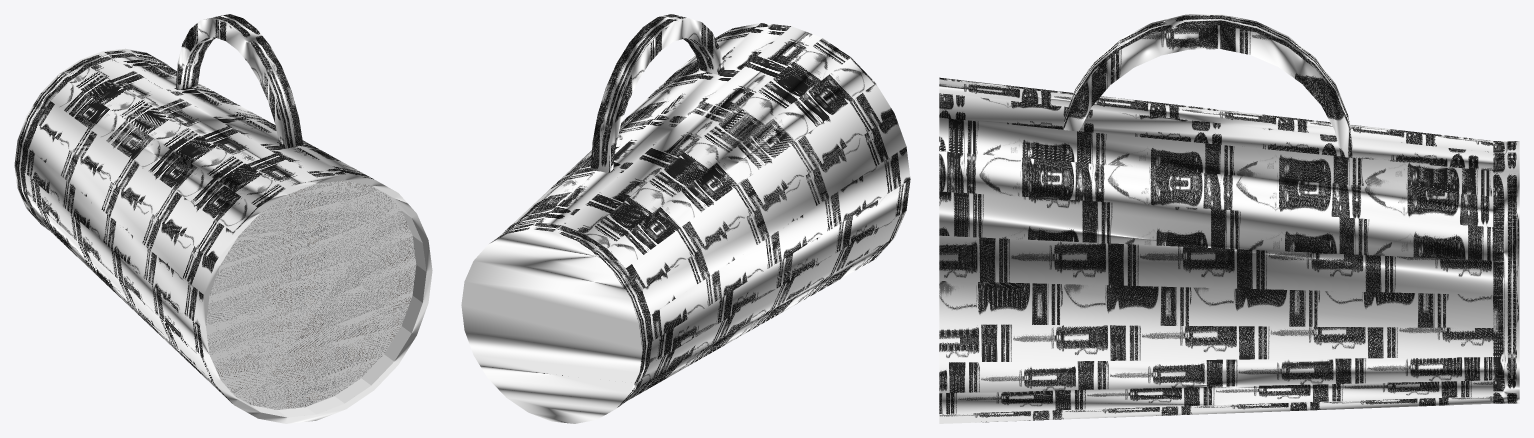
File: model_align.obj
The picture shows the model from 3 angles, left to right: view 1: azimuth 30°, elevation 25°; view 2: azimuth 150°, elevation 25°; view 3: azimuth 270°, elevation 25°; orthographic projection. The views are drawn at different scales.
Bounding box in the file's own units: 0.0703 × 0.0906 × 0.1174.
